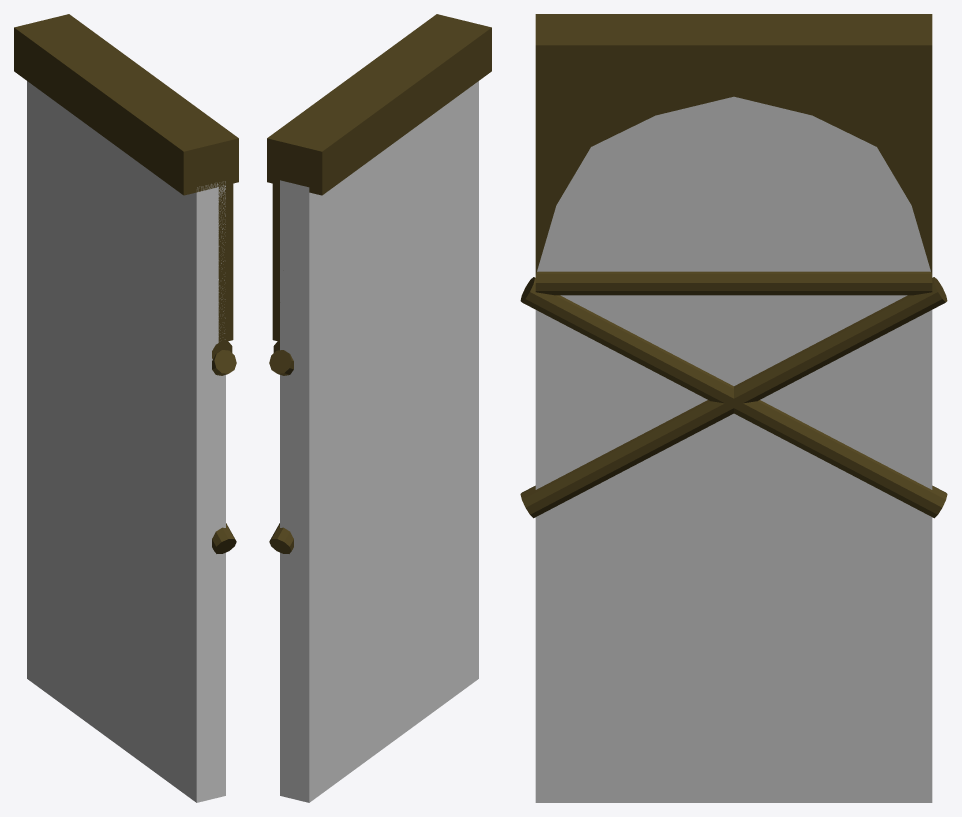
The model's file is Wall2UV.fbx.
3 renders of one model, left to right at view 1: azimuth 30°, elevation 25°; view 2: azimuth 150°, elevation 25°; view 3: azimuth 270°, elevation 25°, orthographic. The views are drawn at different scales.
Visible parts, largest first — view 1: Cylinder.002; view 2: Cylinder.002; view 3: Cylinder.002.
Part boxes in pixels (x1,y1,x2,y2): Cylinder.002: (14, 14, 238, 802); Cylinder.002: (267, 14, 491, 802); Cylinder.002: (520, 14, 947, 802).
Bounding box in the file's own units: 37.5 × 425 × 215.
